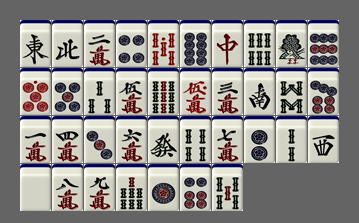0m: (180, 68, 211, 115)
0p: (20, 68, 51, 115)
0s: (148, 20, 179, 67)
1m: (20, 116, 51, 163)
1p: (148, 164, 179, 211)
1s: (276, 20, 307, 67)
1z: (20, 20, 51, 67)
2m: (84, 20, 115, 67)
2p: (244, 116, 275, 163)
2s: (276, 116, 307, 163)
2z: (244, 68, 275, 115)
3m: (212, 68, 243, 115)
3p: (84, 116, 115, 163)
3s: (84, 68, 115, 115)
3z: (308, 116, 339, 163)
4m: (52, 116, 83, 163)
4p: (116, 20, 147, 67)
4s: (180, 116, 211, 163)
4z: (52, 20, 83, 67)
5m: (116, 68, 147, 115)
5p: (52, 68, 83, 115)
5s: (212, 164, 243, 211)
5z: (20, 164, 51, 211)
6m: (116, 116, 147, 163)
6p: (180, 164, 211, 211)
6s: (244, 20, 275, 67)
6z: (148, 116, 179, 163)
7m: (212, 116, 243, 163)
7p: (308, 68, 339, 115)
7s: (116, 164, 147, 211)
7z: (212, 20, 243, 67)
8m: (52, 164, 83, 211)
8p: (180, 20, 211, 67)
8s: (276, 68, 307, 115)
9m: (84, 164, 115, 211)
9p: (308, 20, 339, 67)
9s: (148, 68, 179, 115)
